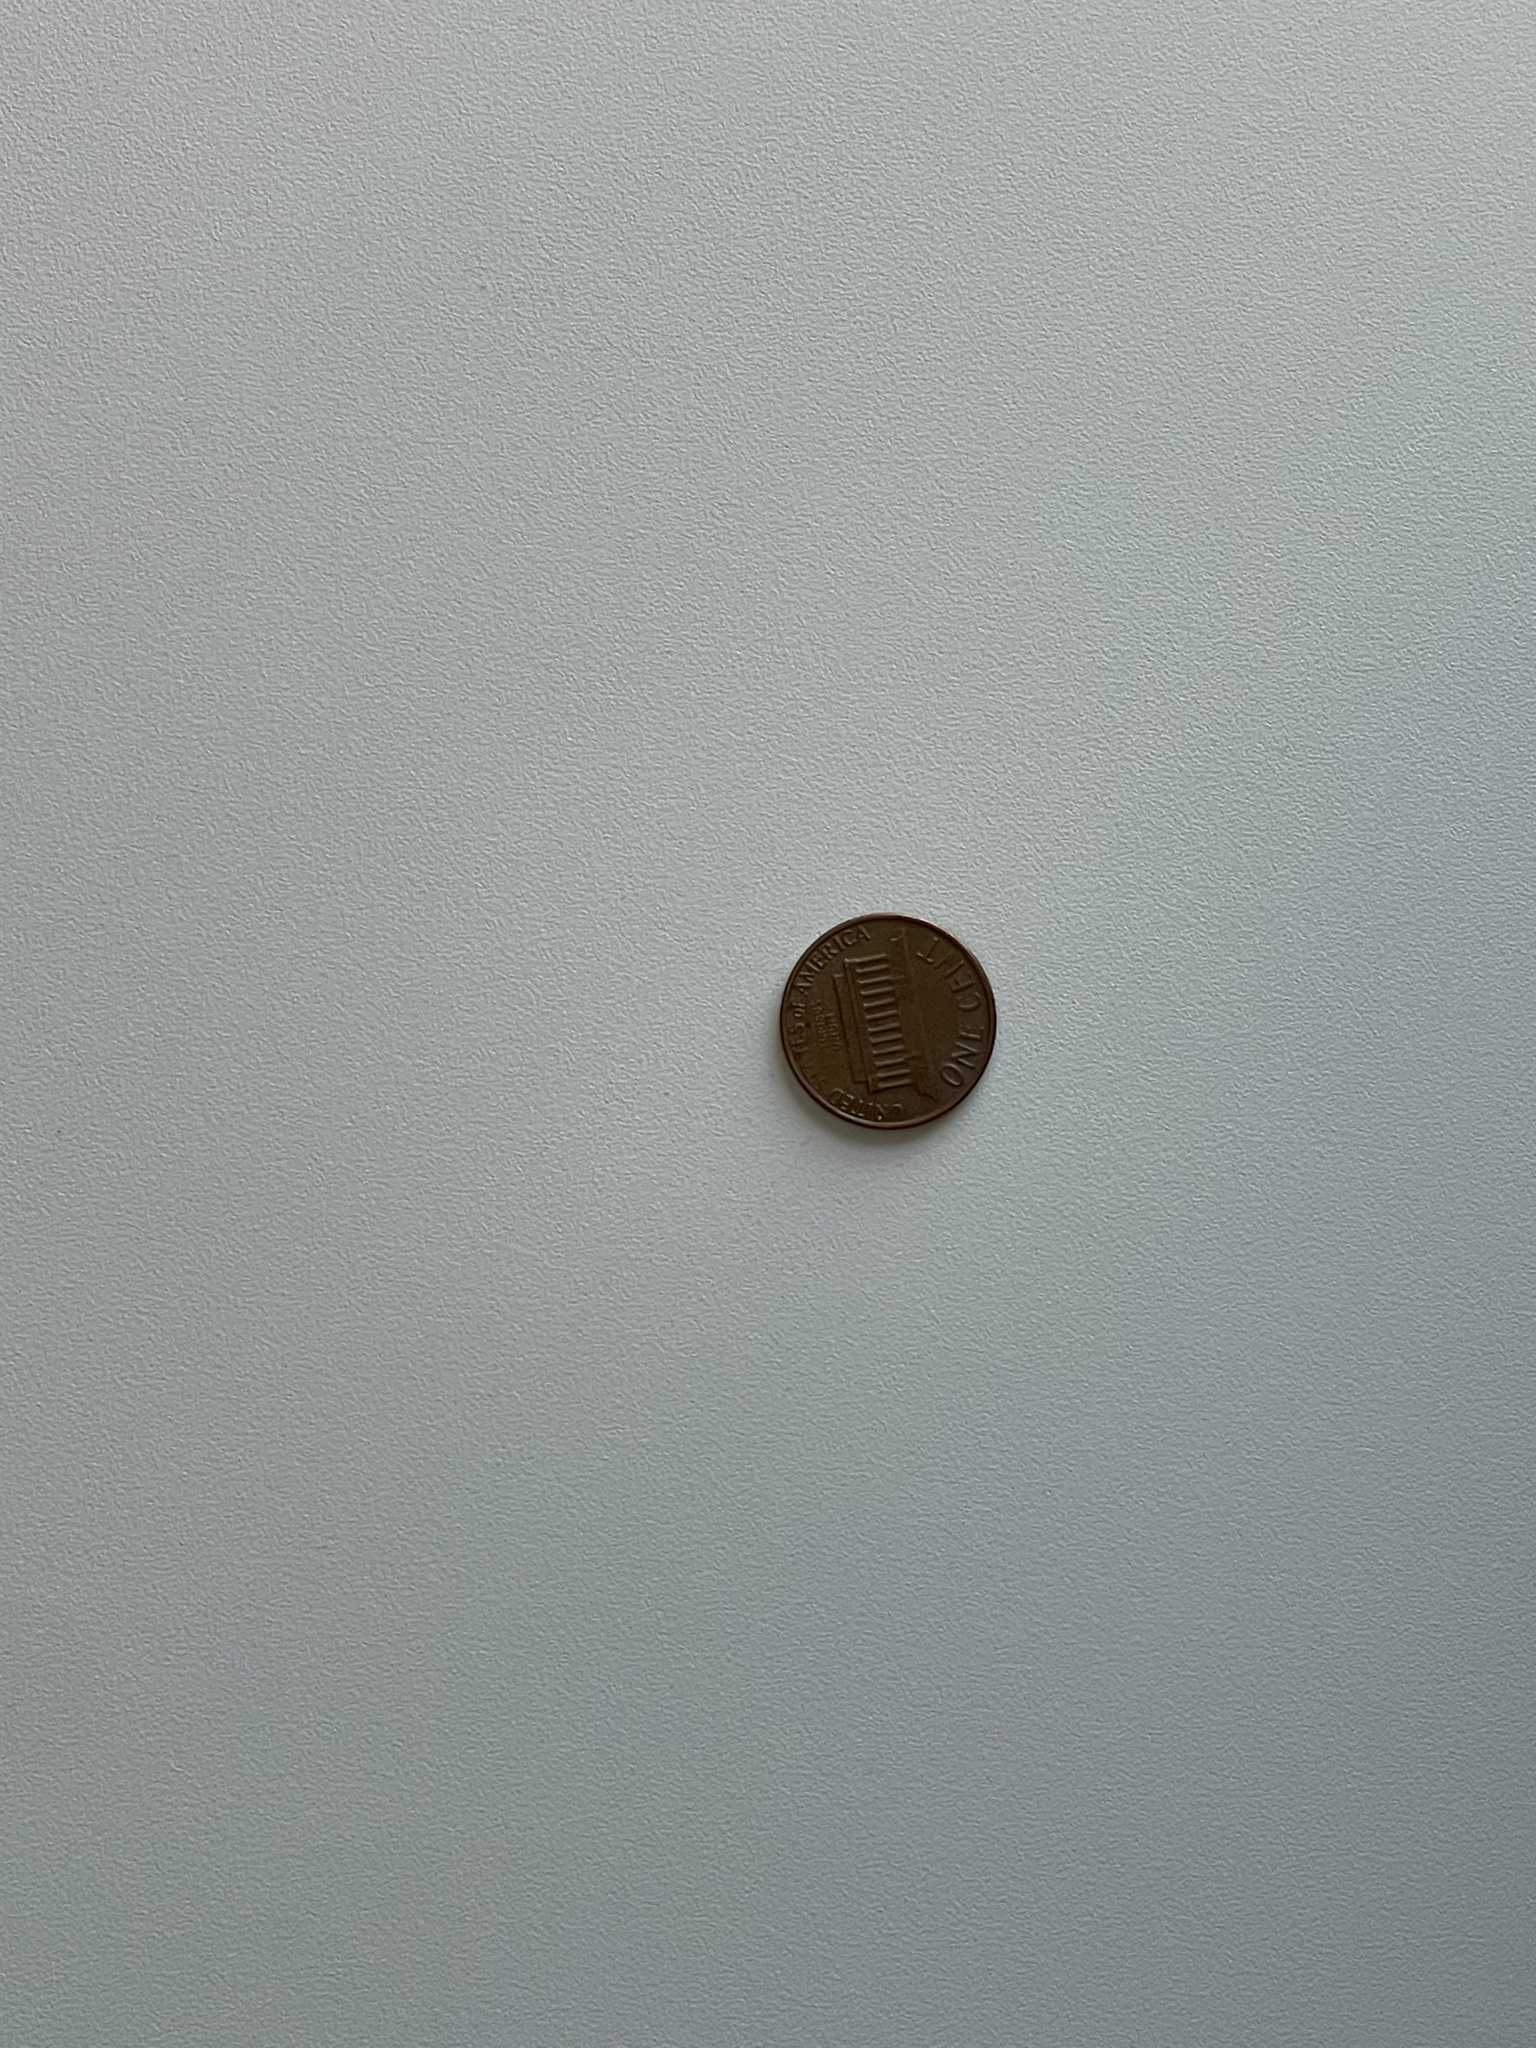penny: (771, 906, 1007, 1137)
